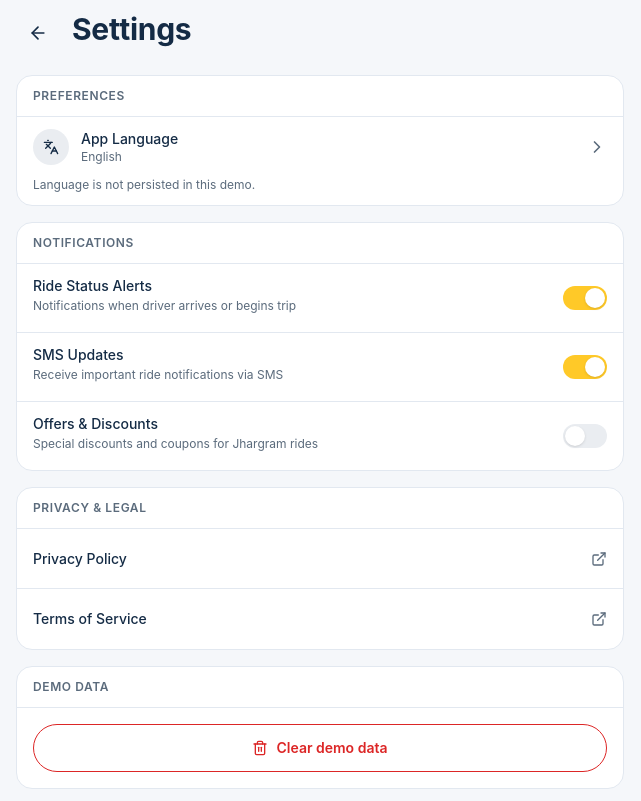
Test: settings › shows and toggles the notification preferences
Step 1. Click the switch named "Offers & Discounts" in the row of "Offers & Discounts" → x=585, y=436, box [563, 414, 607, 458]
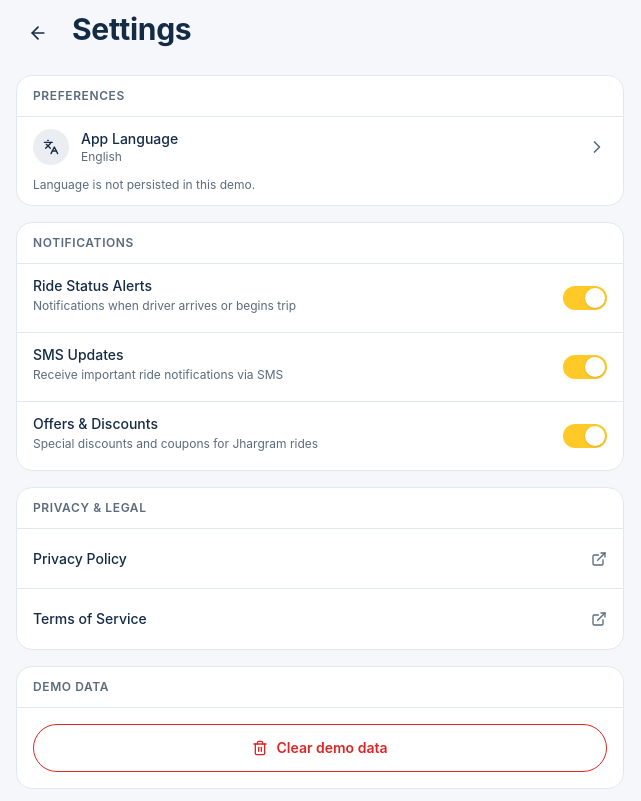
expect the switch named "Offers & Discounts" in the row of "Offers & Discounts" is checked: met, box [563, 414, 607, 458]
